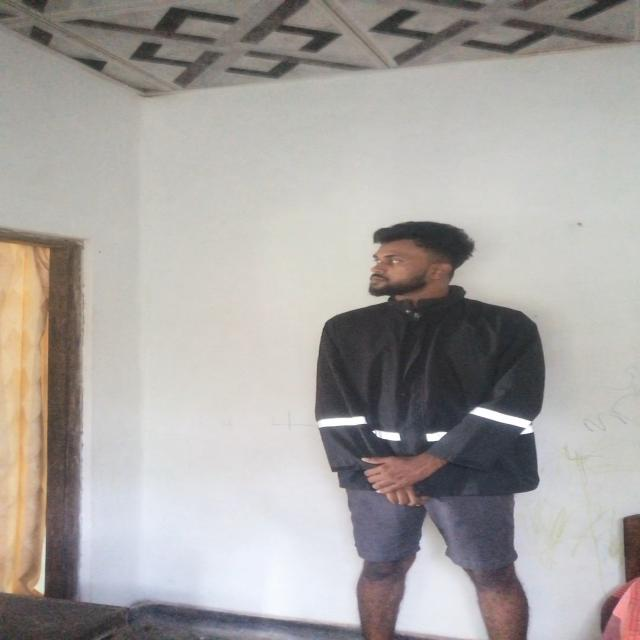Jacket_Wearer: (304, 284, 583, 512)
